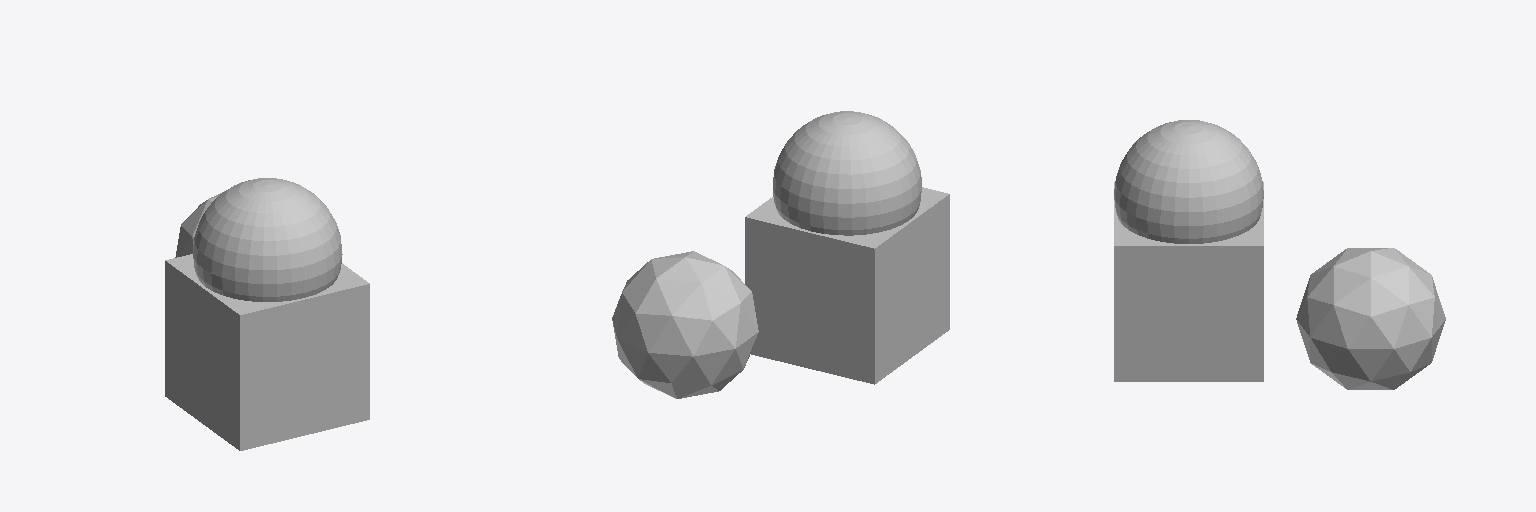
File: objgroups.obj
3 renders of one model, left to right at view 1: azimuth 30°, elevation 25°; view 2: azimuth 150°, elevation 25°; view 3: azimuth 270°, elevation 25°, orthographic.
Parts seen in each view (by area): view 1: Cube, Icosphere; view 2: Cube, Icosphere; view 3: Cube, Icosphere.
Boxes of the visible parts, box(x1,y1,x2,y2) form: Cube: box(165, 178, 369, 450); Icosphere: box(175, 191, 224, 257); Cube: box(745, 111, 949, 384); Icosphere: box(612, 251, 758, 398); Cube: box(1114, 120, 1263, 381); Icosphere: box(1296, 248, 1445, 389).
Size of the model in its own units: 3.04 by 3.32 by 4.43.